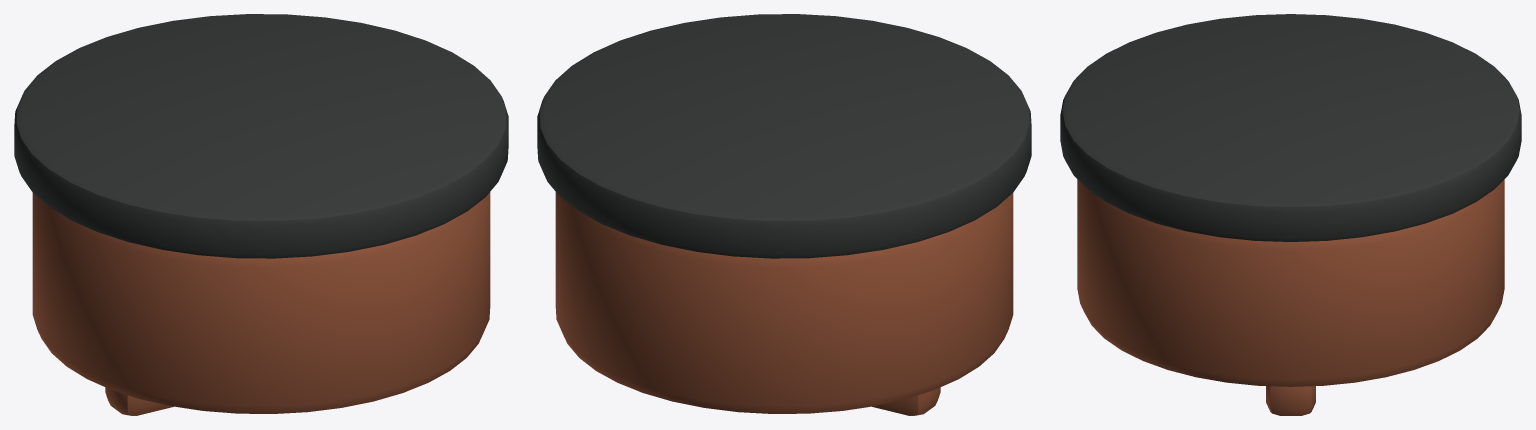
The model's file is washing_machine_program_dial.glb.
The picture shows the model from 3 angles, left to right: view 1: azimuth 30°, elevation 25°; view 2: azimuth 150°, elevation 25°; view 3: azimuth 270°, elevation 25°; orthographic projection. The views are drawn at different scales.
Visible parts, largest first — view 1: washing_machine_program_dial_x; view 2: washing_machine_program_dial_x; view 3: washing_machine_program_dial_x.
Part boxes in pixels (bbox=[...]): washing_machine_program_dial_x: bbox=[14, 14, 508, 415]; washing_machine_program_dial_x: bbox=[537, 14, 1031, 415]; washing_machine_program_dial_x: bbox=[1060, 14, 1521, 415].
Size of the model in its own units: 0.0648 by 0.038 by 0.0648.
